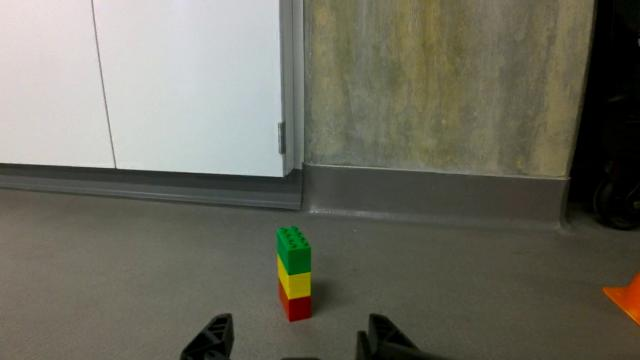lego: (274, 220, 319, 328)
